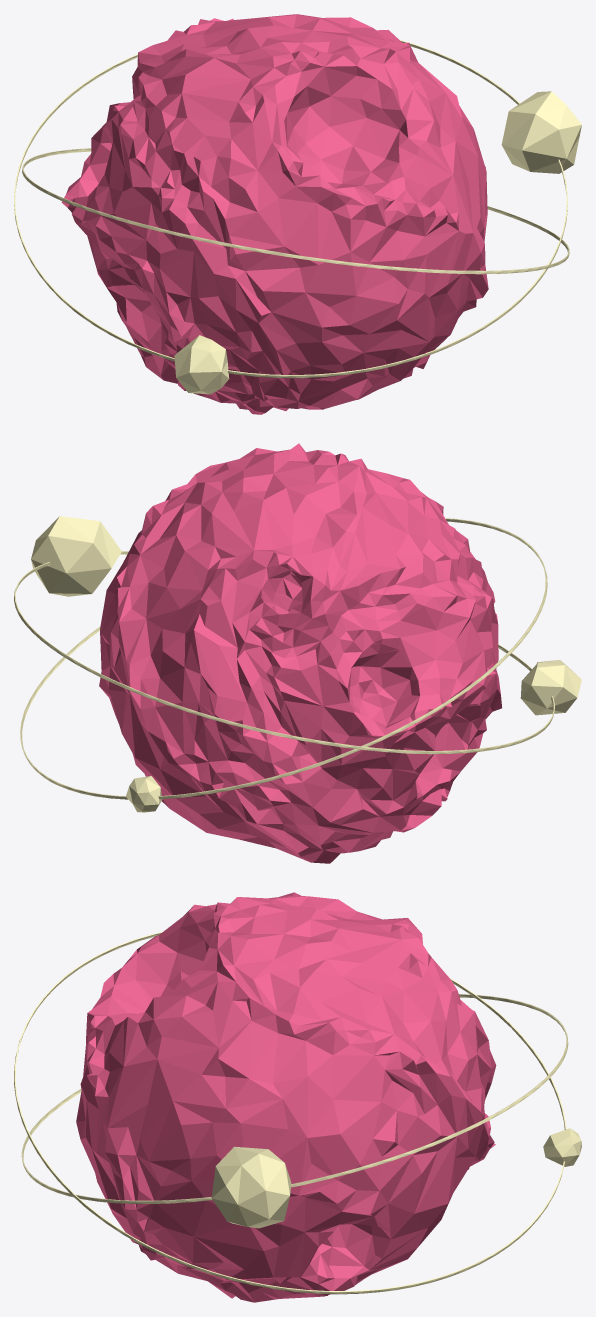
The model's file is Planet3moonOn2rings.glb.
3 renders of one model, top to bottom at view 1: azimuth 30°, elevation 25°; view 2: azimuth 150°, elevation 25°; view 3: azimuth 270°, elevation 25°, orthographic.
Parts seen in each view (by area): view 1: Planet_39; view 2: Planet_39; view 3: Planet_39.
Boxes of the visible parts, x1,y1,x2,y2 form: Planet_39: (14, 14, 581, 414); Planet_39: (14, 443, 581, 863); Planet_39: (14, 892, 581, 1302).
Size of the model in its own units: 28.93 by 20.56 by 28.05.
1 material, 1 textured.
